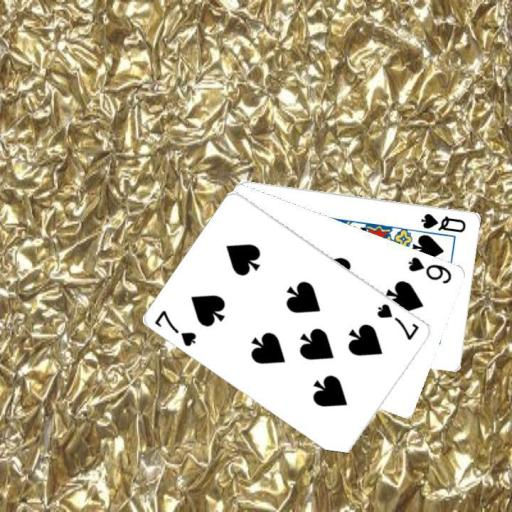6S: (405, 253, 454, 285)
7S: (152, 307, 199, 349), (374, 300, 422, 341)
QS: (418, 210, 468, 234)
